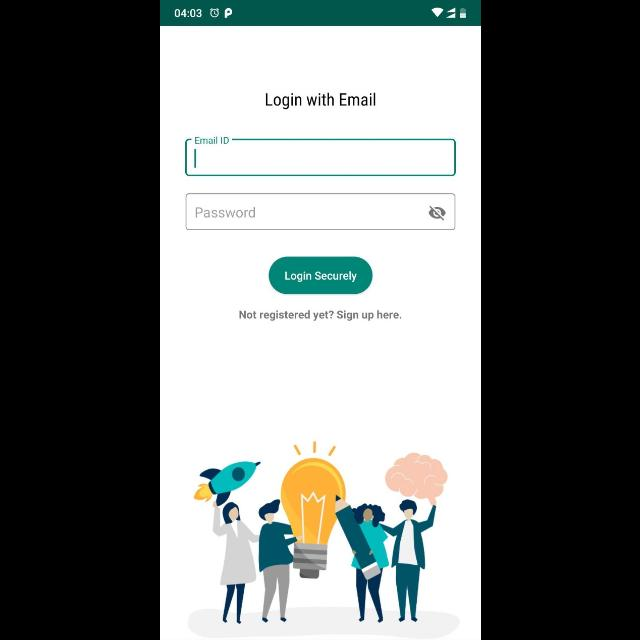icon: (428, 206, 444, 222)
image: (187, 441, 458, 639)
input: (185, 138, 455, 176), (185, 193, 455, 230)
text: (265, 92, 375, 110), (239, 310, 333, 322), (336, 310, 400, 322), (196, 208, 254, 218), (195, 136, 228, 144)
textbutton: (268, 257, 372, 295)
uppertaskbar: (160, 1, 480, 27)
